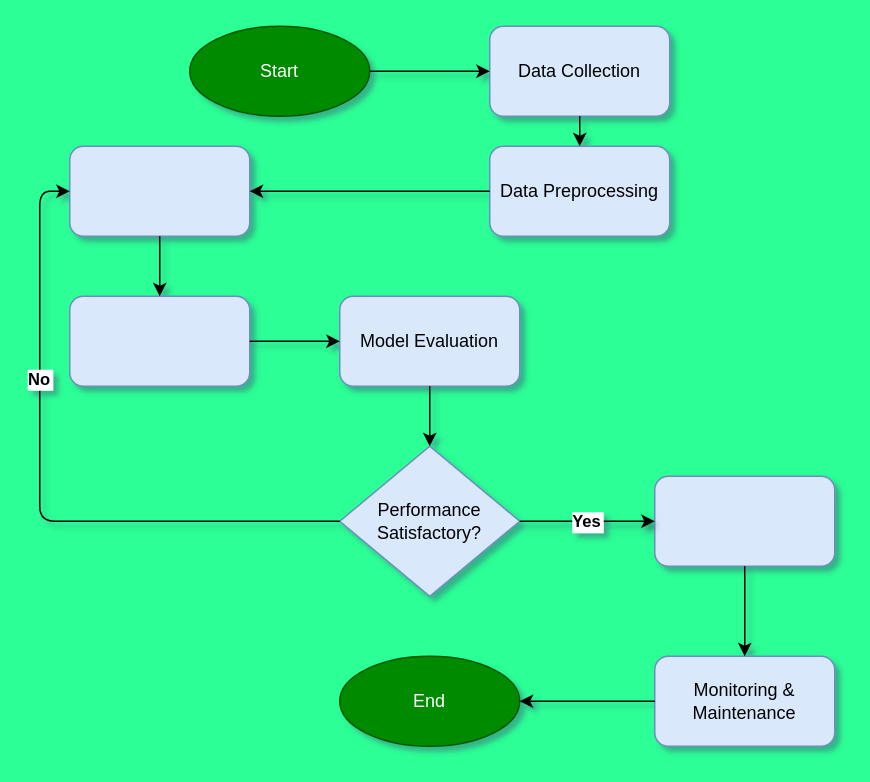
Some shapes in this 870 by 782 pixel diagram are drawn without their labels. The centre of each missing label's shape, as x and y in pixels:
Deployment: the point at 744,520
Model Selection: the point at 159,190
Model Training: the point at 159,340
